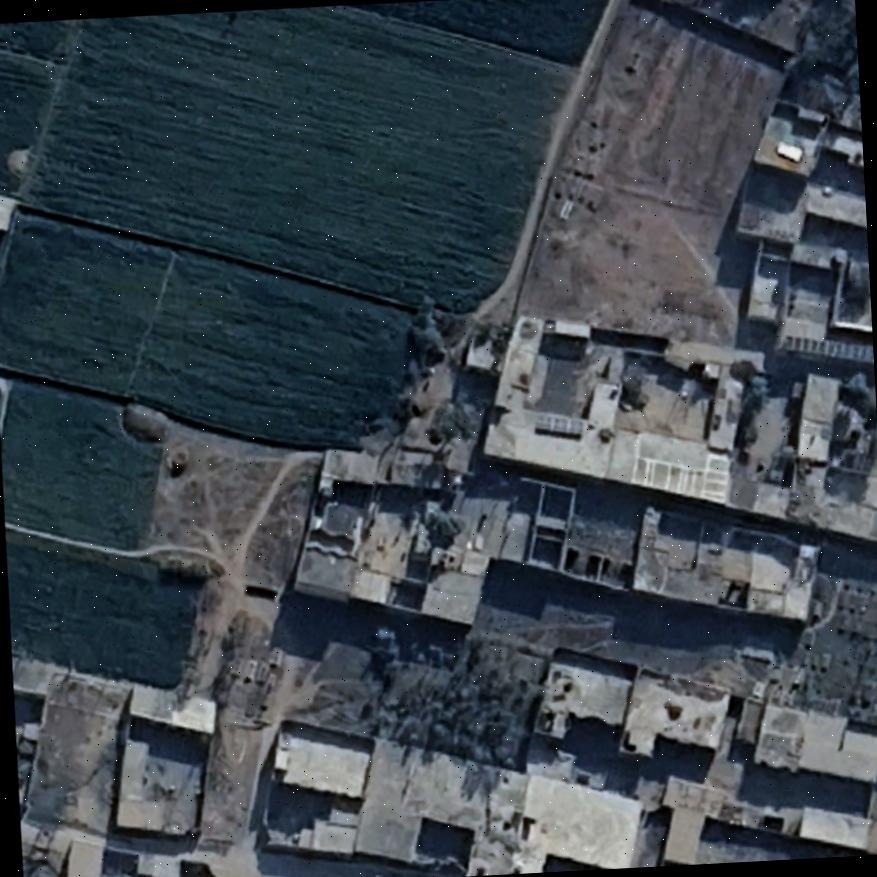Solarpanel: (778, 334, 872, 366), (536, 414, 589, 439)
